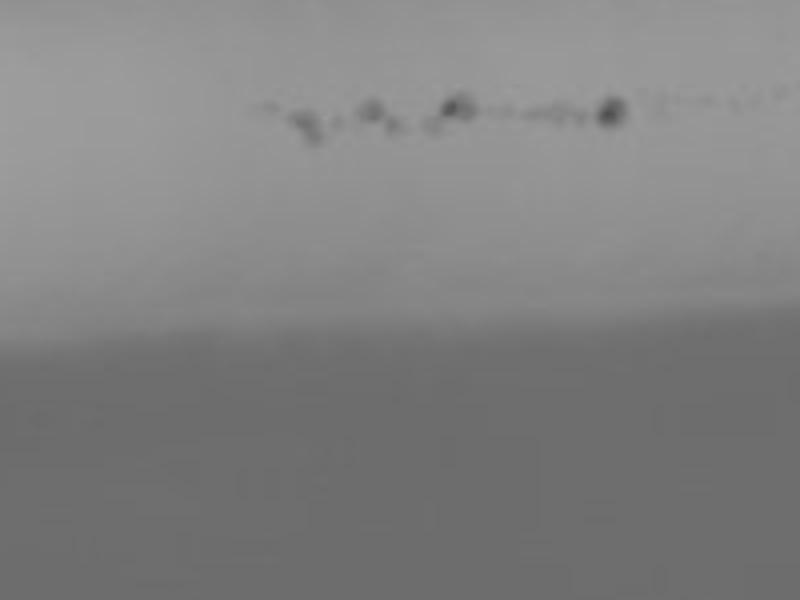defect: (289, 110, 329, 151), (440, 92, 477, 125), (523, 105, 582, 123), (594, 99, 629, 128), (356, 97, 383, 123), (421, 117, 447, 141), (382, 116, 406, 138), (256, 98, 281, 117), (327, 114, 350, 133)
